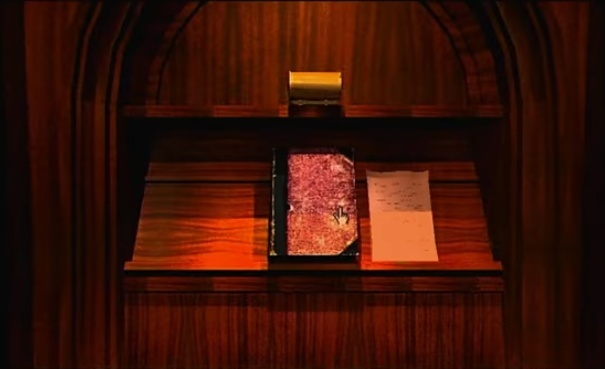Pointer: (331, 204, 351, 225)
